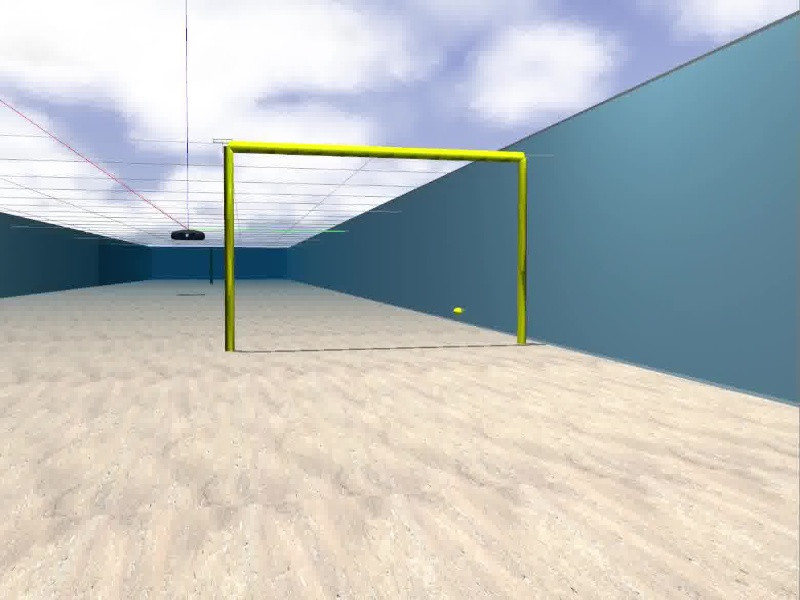gate: (221, 139, 535, 355)
